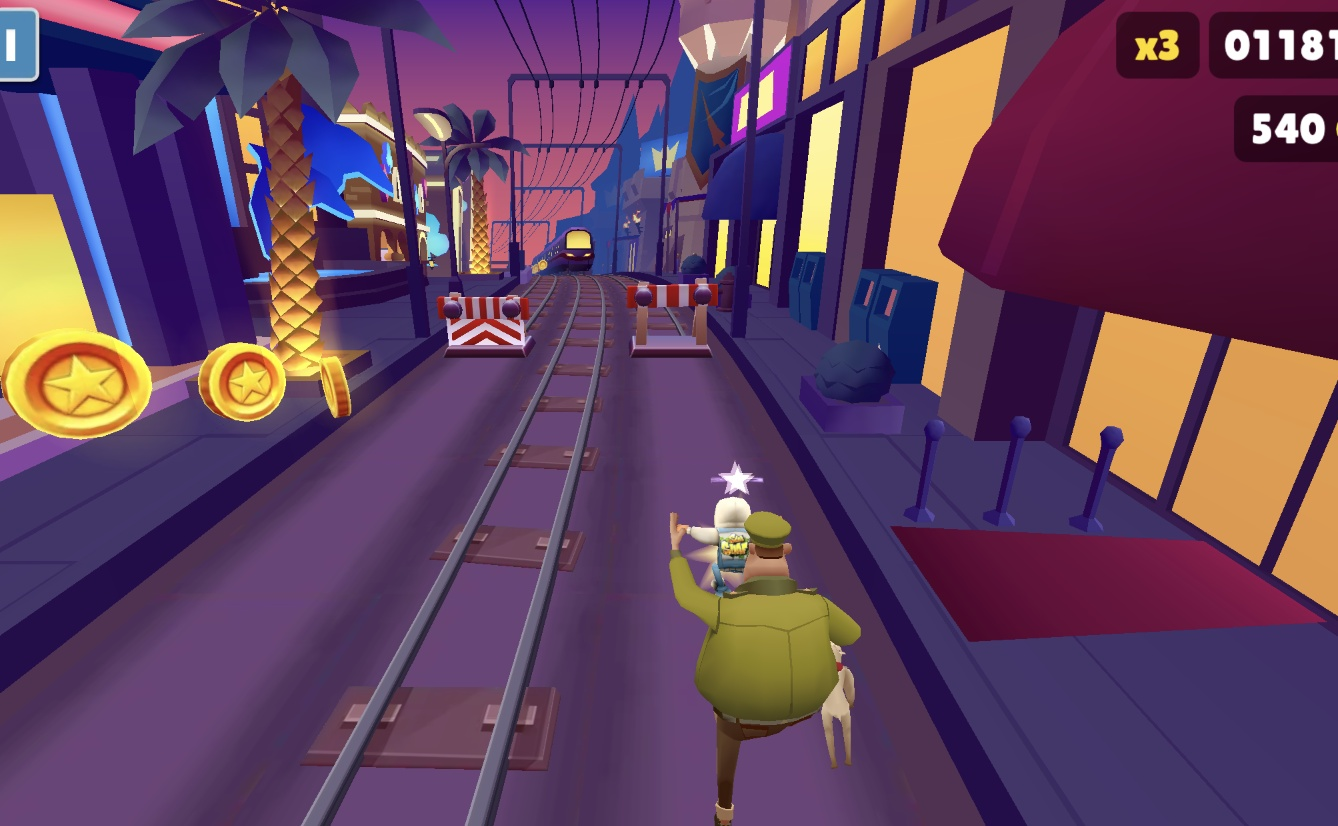ground_barrier: (439, 292, 534, 362)
overhead_barrier: (627, 282, 719, 359)
train: (544, 222, 594, 275)
